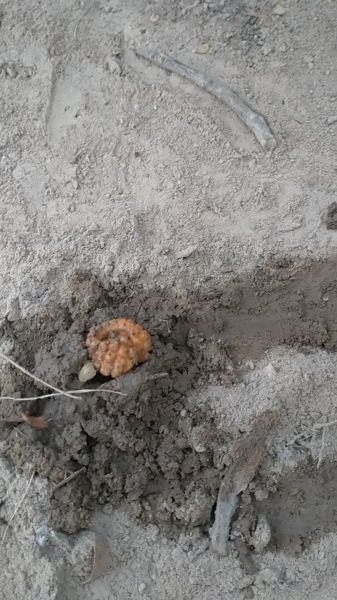eggs: (81, 316, 154, 382)
